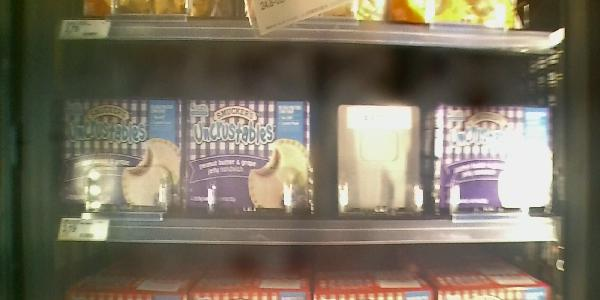icecream: (57, 94, 188, 218), (186, 97, 314, 216), (434, 101, 556, 215)
